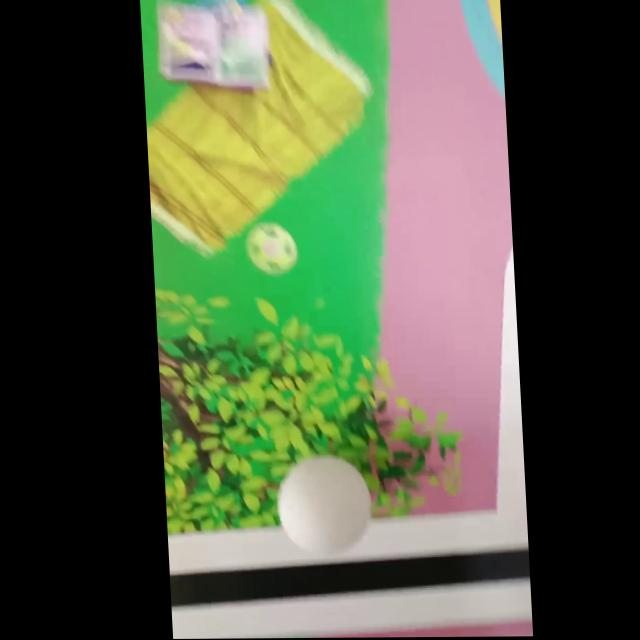white ball: (274, 454, 375, 553)
